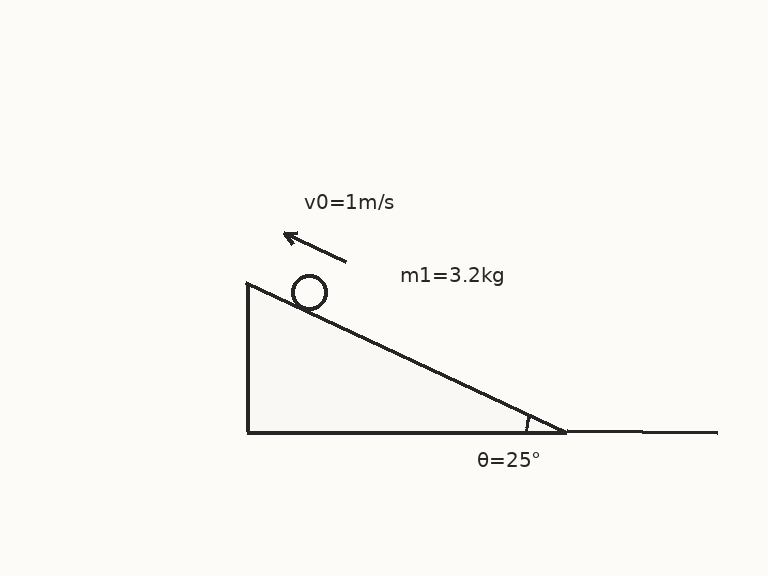ball: (289, 272, 329, 312)
ramp: (245, 281, 568, 434)
